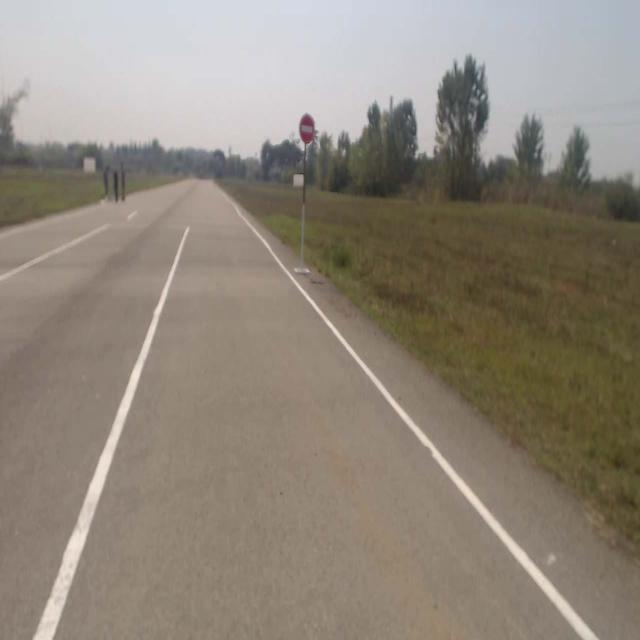girisyok: (300, 114, 314, 143)
